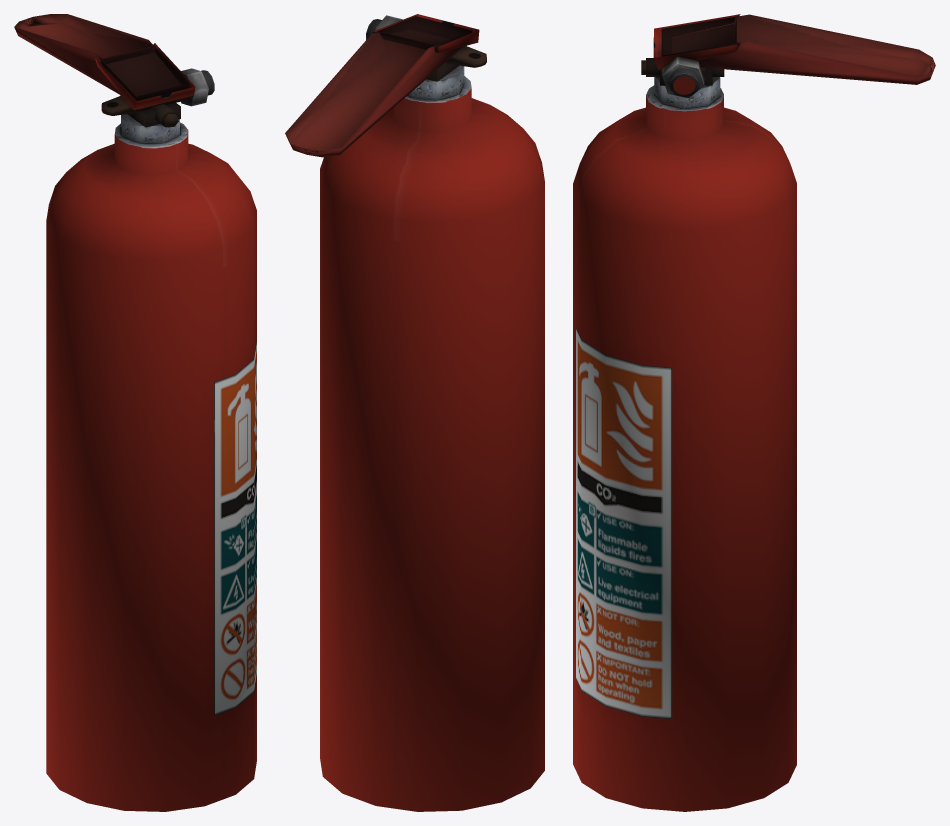
The model's file is extintor_base.fbx.
3 views of the same model, side by side, from view 1: azimuth 30°, elevation 25°; view 2: azimuth 150°, elevation 25°; view 3: azimuth 270°, elevation 25° (orthographic). The views are drawn at different scales.
Visible parts, largest first — view 1: fire_extinguisher_c02; view 2: fire_extinguisher_c02; view 3: fire_extinguisher_c02.
Part boxes in pixels (bbox=[...]): fire_extinguisher_c02: bbox=[14, 14, 256, 811]; fire_extinguisher_c02: bbox=[285, 14, 544, 811]; fire_extinguisher_c02: bbox=[573, 14, 935, 811].
Bounding box in the file's own units: 15.2 × 55.19 × 24.62.
Materials: 1 (1 with a texture image).
